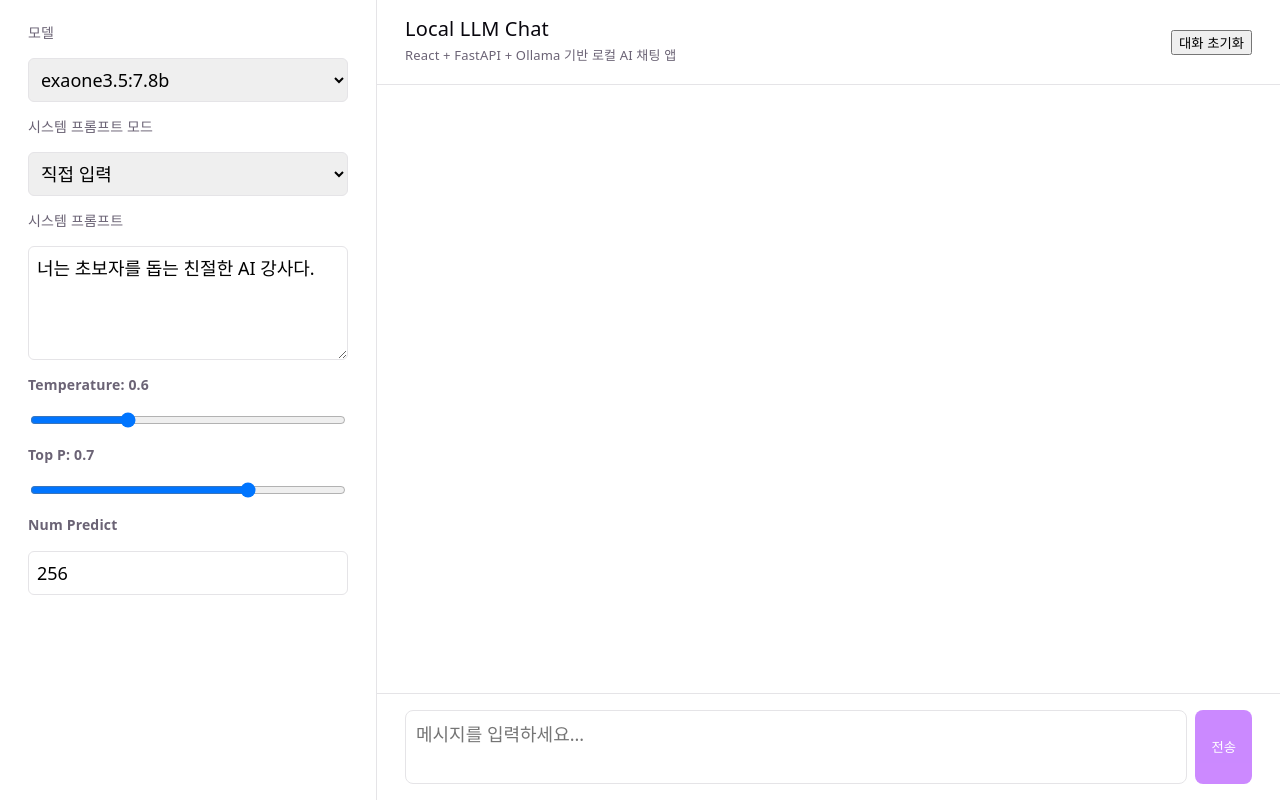
App › SettingsPanel + ChatWindow 통합 (4.11) › 메시지를 전송하면 성공 시 사용자/어시스턴트 메시지가 목록에 추가된다
The width and height of the screenshot is (1280, 800).
Type "안녕" into the text box with placeholder "메시지를 입력하세요..." at (796, 747), box [405, 710, 1188, 784]
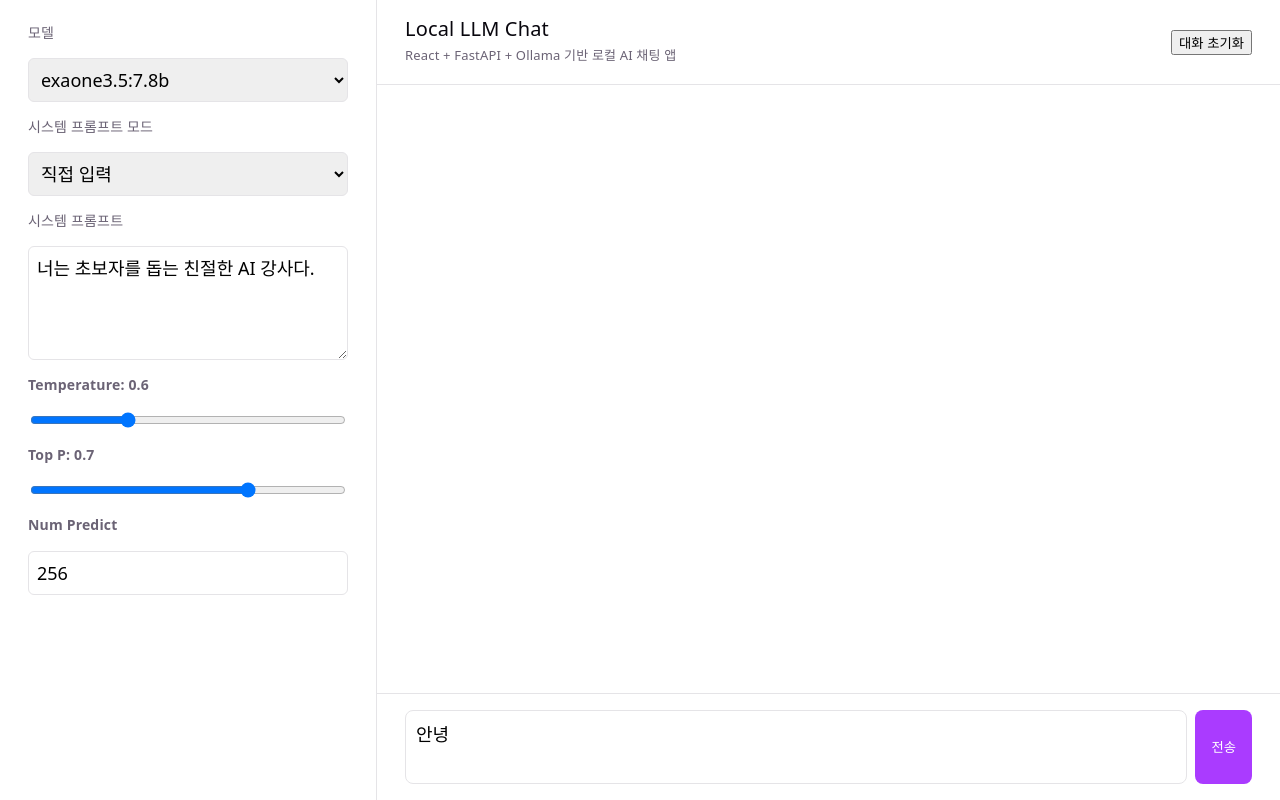
Click the button "전송" at (1224, 747), box [1196, 710, 1252, 784]
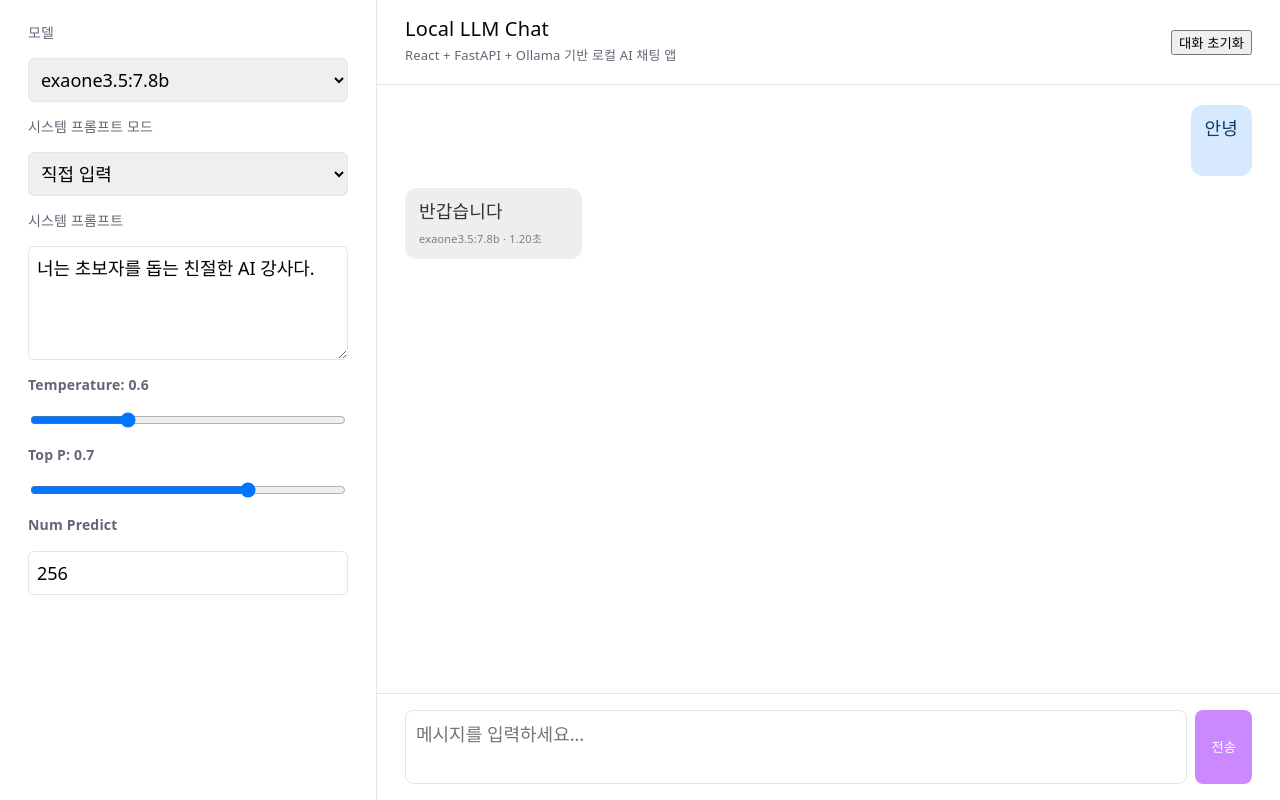
Now the text "안녕" is shown, box [1204, 115, 1238, 142]
Now the text "반갑습니다" is shown, box [419, 199, 503, 223]
Now the text "exaone3.5:7.8b · 1.20초" is shown, box [419, 231, 542, 247]
